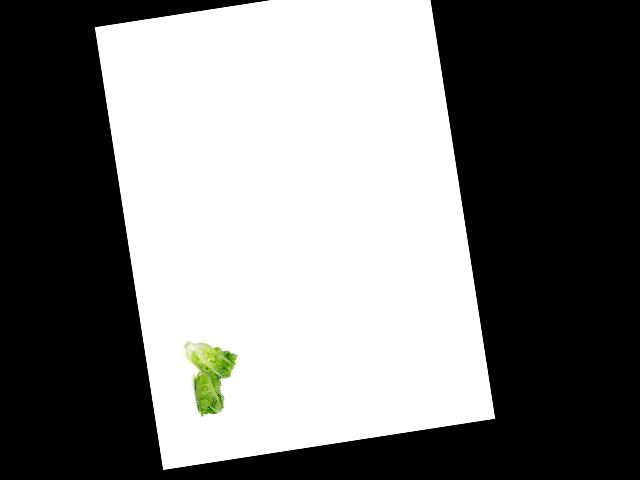lettuce: (179, 333, 239, 390)
